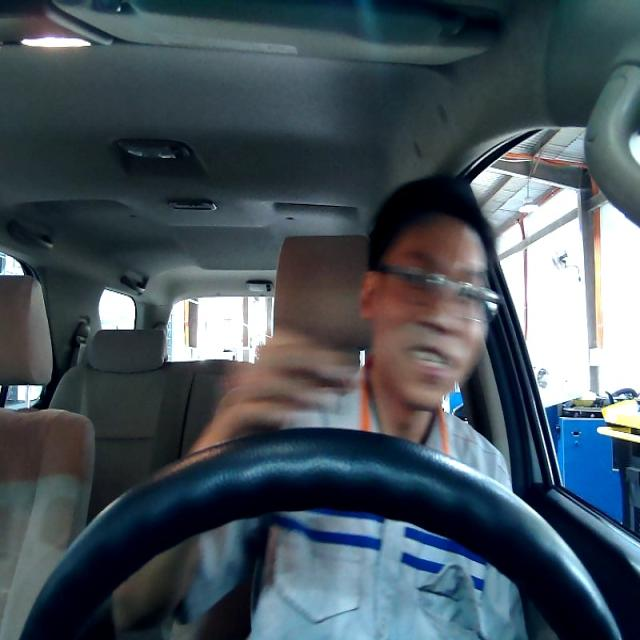focused: (357, 216, 490, 408)
